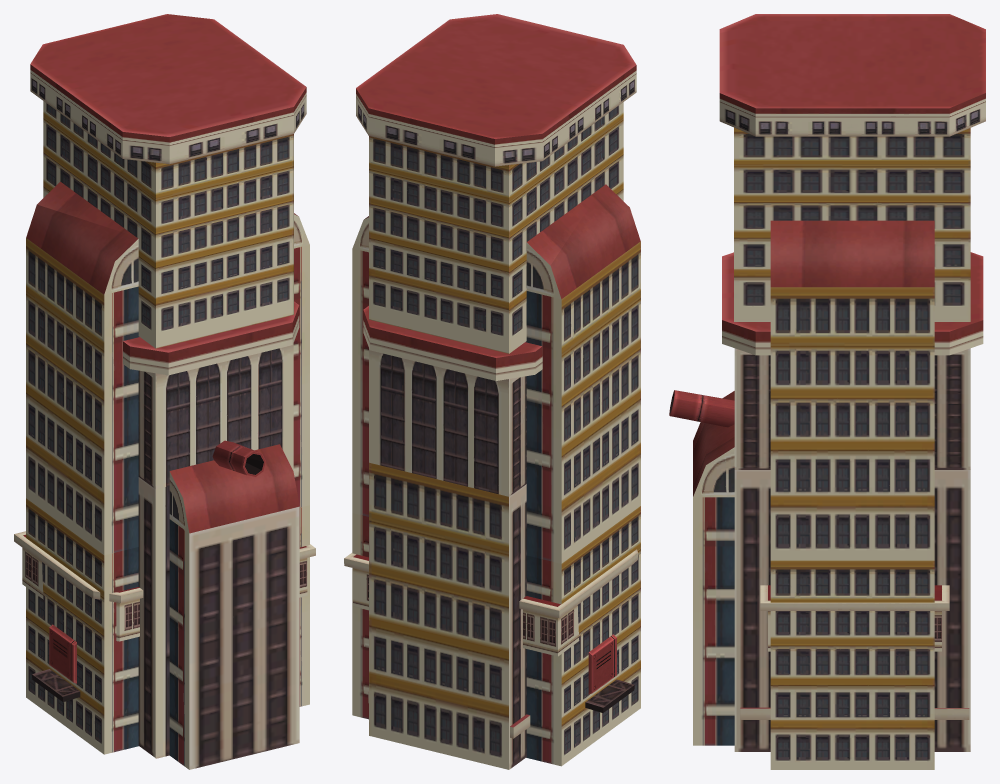
File: hongse.FBX
3 renders of one model, left to right at view 1: azimuth 30°, elevation 25°; view 2: azimuth 150°, elevation 25°; view 3: azimuth 270°, elevation 25°, orthographic. The views are drawn at different scales.
Visible parts, largest first — view 1: L1_hongse, Mesh_hongse; view 2: L1_hongse, Mesh_hongse; view 3: L1_hongse, Mesh_hongse, L0_hongse.
Part boxes in pixels (bbox=[...]): L1_hongse: bbox=[26, 14, 309, 769]; Mesh_hongse: bbox=[14, 440, 315, 701]; L1_hongse: bbox=[352, 14, 640, 769]; Mesh_hongse: bbox=[344, 549, 637, 712]; L1_hongse: bbox=[693, 14, 985, 769]; Mesh_hongse: bbox=[669, 390, 949, 651]; L0_hongse: bbox=[740, 707, 969, 719].
Size of the model in its own units: 402 by 1070 by 468.
1 material, 1 textured.
